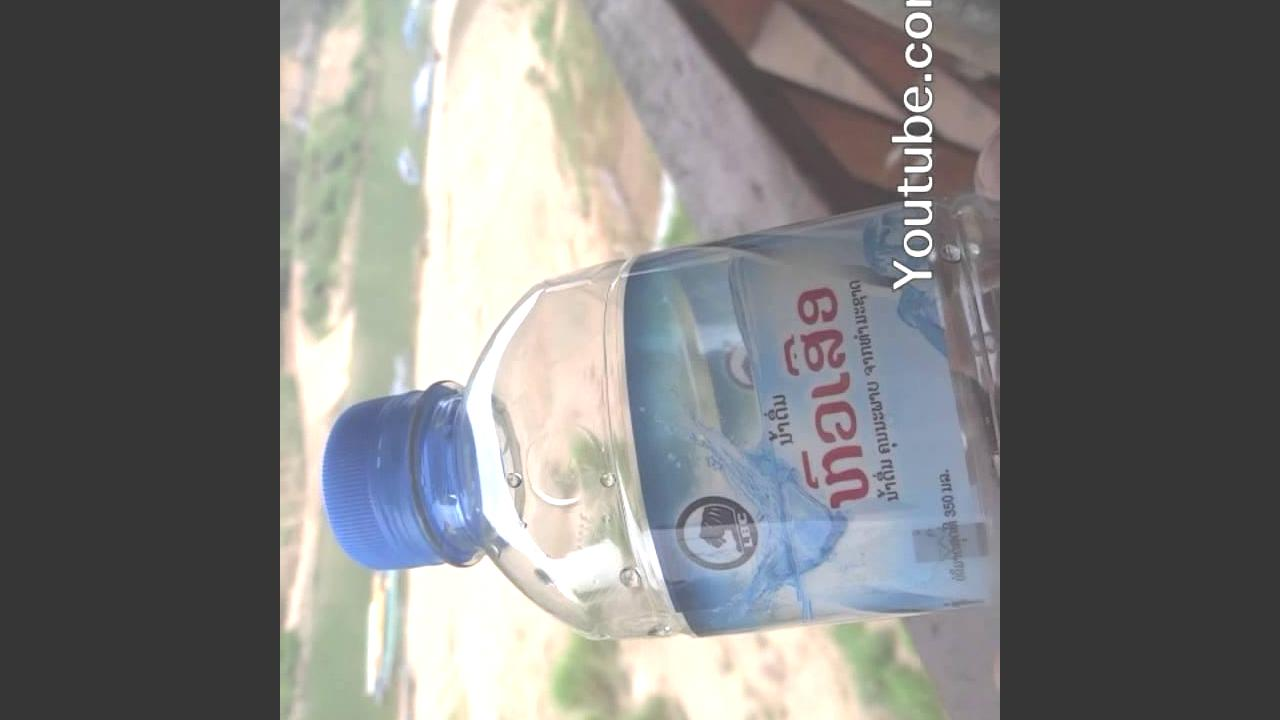bottle: (305, 179, 1000, 668)
